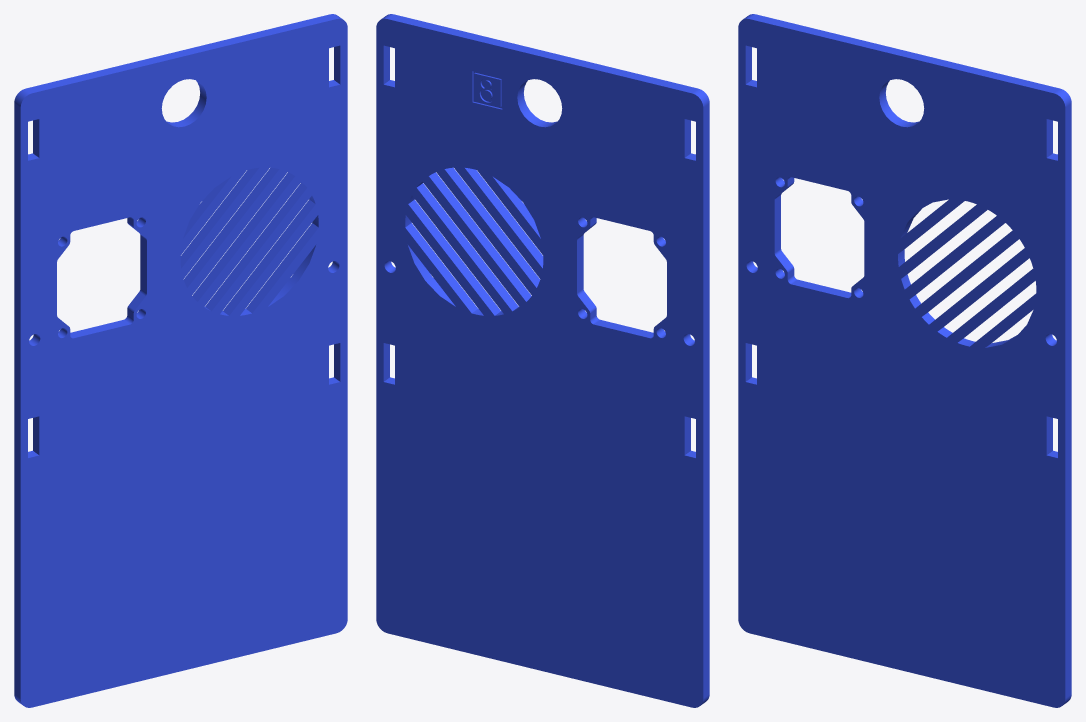
Rendered from Top_deck.obj.
3 views of the same model, side by side, from view 1: azimuth 30°, elevation 25°; view 2: azimuth 150°, elevation 25°; view 3: azimuth 330°, elevation 25° (orthographic).
Visible parts, largest first — view 1: Body1; view 2: Body1; view 3: Body1.
Part boxes in pixels (x1,y1,x2,y2): Body1: (14,14,347,707); Body1: (376,14,709,707); Body1: (738,14,1071,707).
Size of the model in its own units: 8.75 by 15.7 by 0.3.
